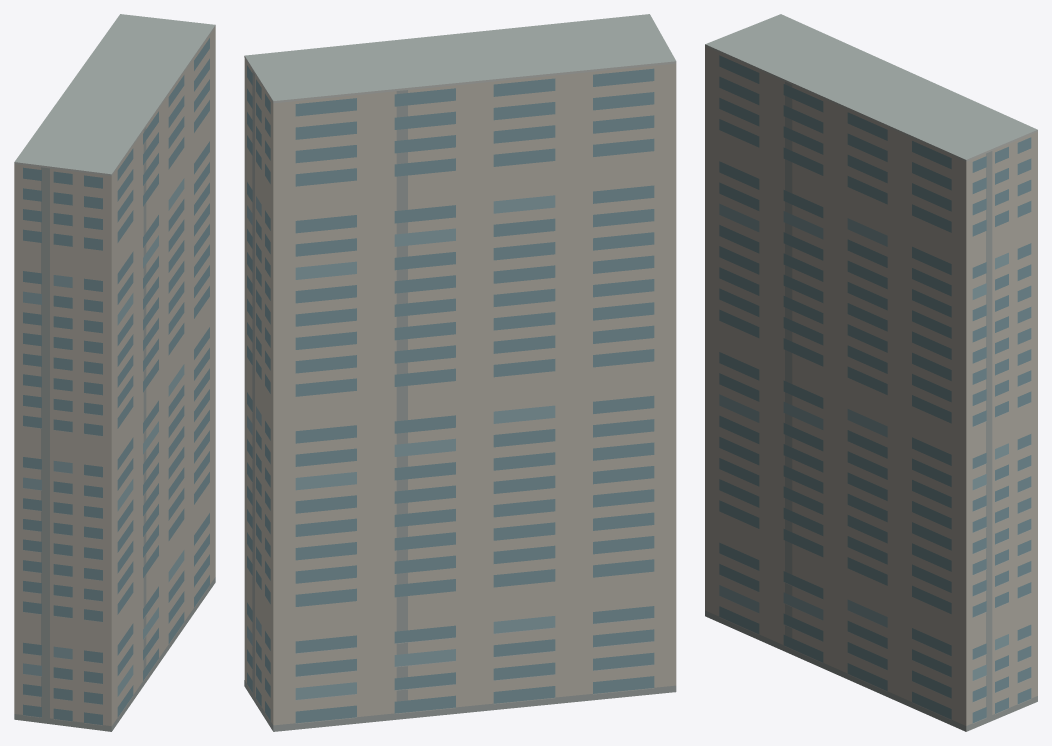
The model's file is residential-27a53b80-7f6b-48d2-a7f0-4ee295d33463.glb.
3 renders of one model, left to right at view 1: azimuth 30°, elevation 25°; view 2: azimuth 150°, elevation 25°; view 3: azimuth 270°, elevation 25°, orthographic. The views are drawn at different scales.
Visible parts, largest first — view 1: residential-27a53b80-7f6b-48d2-a7f0-4ee295d33463.tmp; view 2: residential-27a53b80-7f6b-48d2-a7f0-4ee295d33463.tmp; view 3: residential-27a53b80-7f6b-48d2-a7f0-4ee295d33463.tmp.
Part boxes in pixels (bbox=[...]): residential-27a53b80-7f6b-48d2-a7f0-4ee295d33463.tmp: bbox=[14, 14, 215, 731]; residential-27a53b80-7f6b-48d2-a7f0-4ee295d33463.tmp: bbox=[244, 14, 676, 731]; residential-27a53b80-7f6b-48d2-a7f0-4ee295d33463.tmp: bbox=[705, 14, 1037, 731].
Size of the model in its own units: 38.86 by 71 by 37.43.
